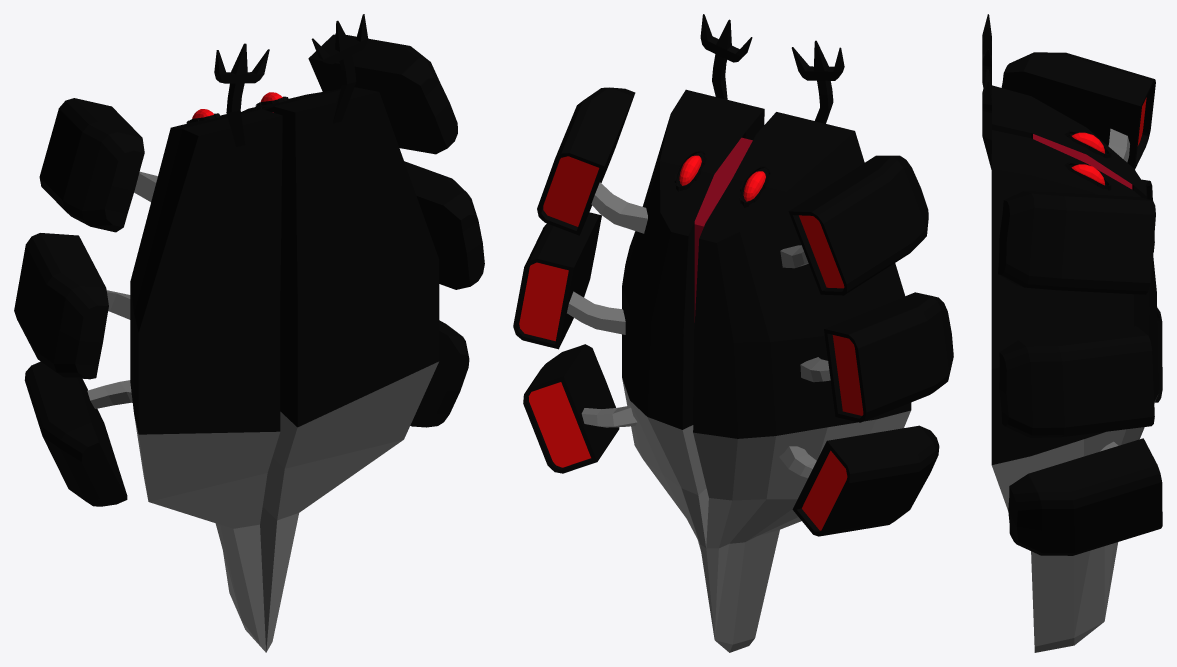
Rendered from Inimigo Pequeno.fbx.
3 views of the same model, side by side, from view 1: azimuth 30°, elevation 25°; view 2: azimuth 150°, elevation 25°; view 3: azimuth 270°, elevation 25° (orthographic). The views are drawn at different scales.
Parts seen in each view (by area): view 1: Cube.003, Cube.013, Cube.009, Cube.007, Cube.012, Cube.014, Cube.010; view 2: Cube.003, Cube.013, Cube.009, Cube.007, Cube.012, Cube.011, Cube.006, Cube.008, Cube.014, Cube.001, Cube.004, Cube (+3 smaller); view 3: Cube.009, Cube.003, Cube.007, Cube.012, Cube.013, Cube.014, Cube, Cube.002, Cube.005, Cube.004.
Boxes of the visible parts, x1,y1,x2,y2 form: Cube.003: [130, 87, 439, 434]; Cube.013: [134, 361, 438, 652]; Cube.009: [39, 34, 457, 232]; Cube.007: [14, 161, 484, 379]; Cube.012: [24, 320, 469, 506]; Cube.014: [214, 14, 368, 147]; Cube.010: [87, 380, 132, 408]; Cube.003: [622, 89, 911, 438]; Cube.013: [622, 378, 910, 652]; Cube.009: [537, 87, 928, 295]; Cube.007: [513, 212, 953, 422]; Cube.012: [523, 344, 939, 536]; Cube.011: [528, 382, 847, 530]; Cube.006: [519, 262, 863, 415]; Cube.008: [543, 156, 844, 288]; Cube.014: [700, 14, 844, 123]; Cube.001: [567, 291, 830, 382]; Cube.004: [591, 182, 808, 268]; Cube: [694, 137, 752, 322]; Cube.009: [998, 52, 1155, 294]; Cube.003: [991, 85, 1158, 464]; Cube.007: [999, 179, 1154, 437]; Cube.012: [1008, 308, 1162, 555]; Cube.013: [992, 395, 1157, 652]; Cube.014: [982, 14, 991, 169]; Cube: [1033, 134, 1132, 189]; Cube.002: [1071, 132, 1104, 185]; Cube.005: [1064, 130, 1111, 190]; Cube.004: [1108, 128, 1129, 162].
Bounding box in the file's own units: 948 × 1345 × 363.
